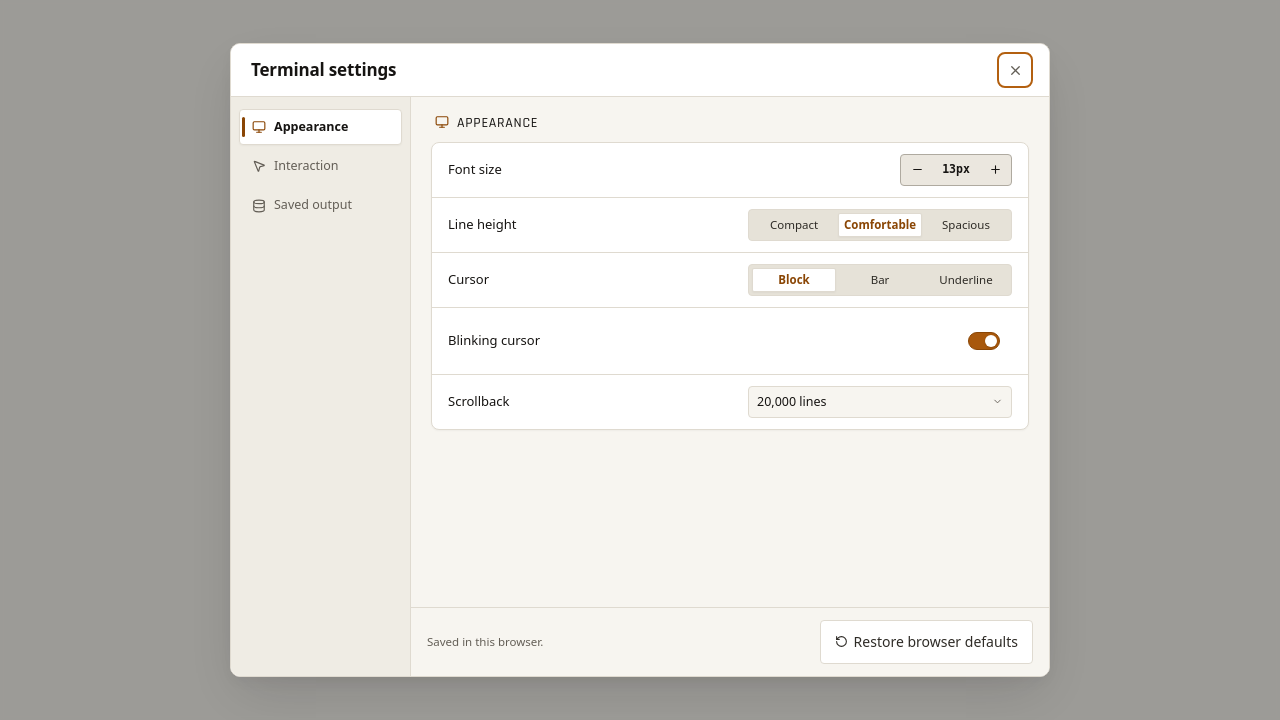
Test: Terminal notification permission › explains denied permission beside the initiating control
The width and height of the screenshot is (1280, 720).
Click the button "Interaction": x=320, y=166 [239,148,402,184]
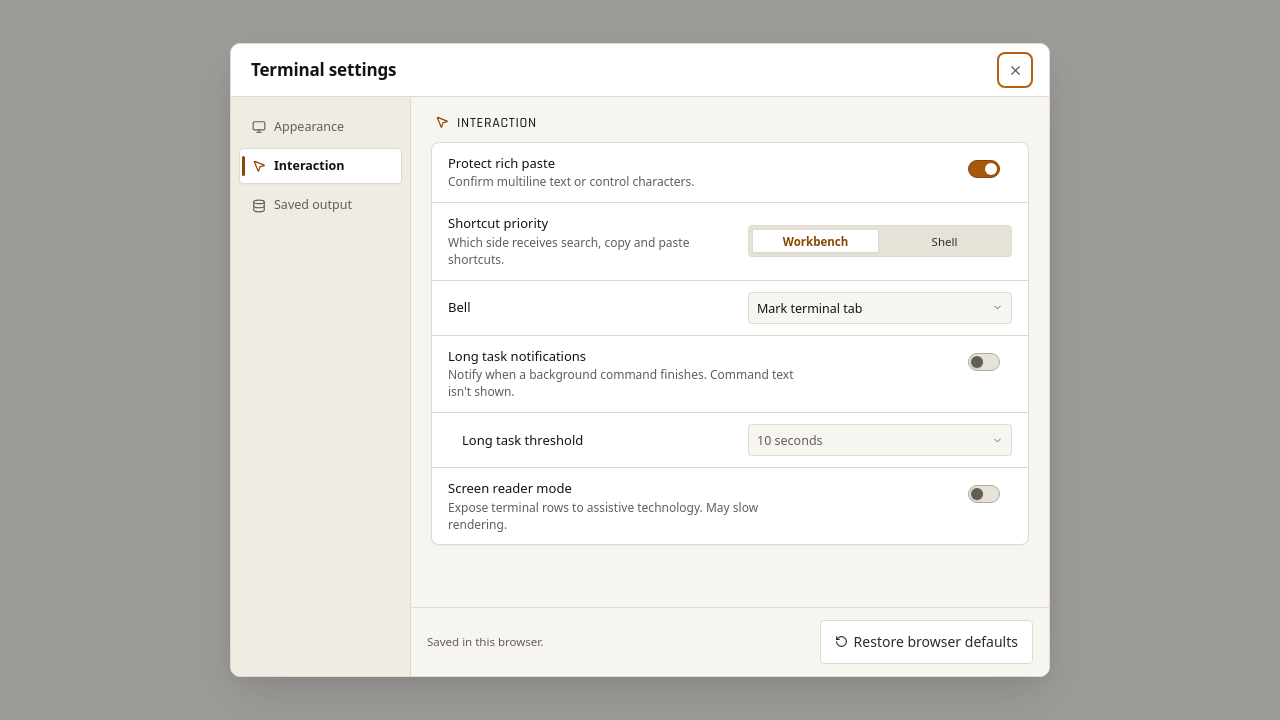
Click the switch named "Long task notifications": x=984, y=362 [968,353,1000,371]
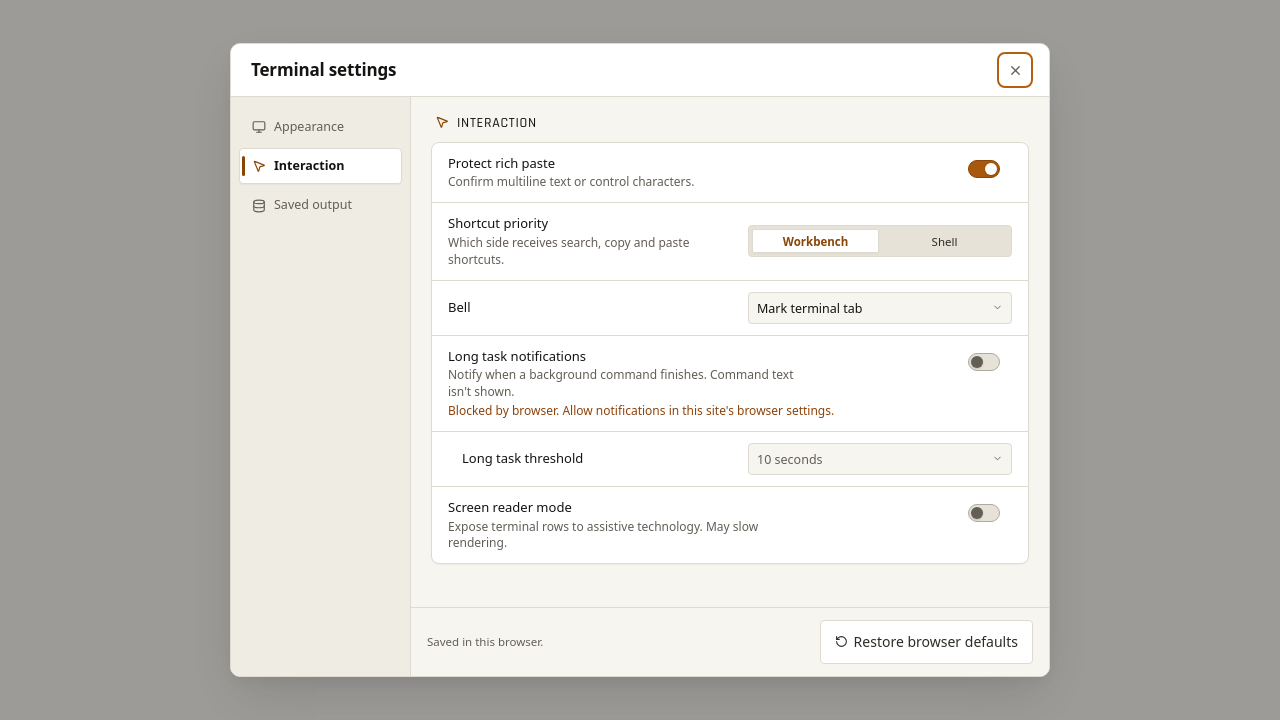
expect the switch named "Long task notifications" is not checked: met, box [968,353,1000,371]
expect the message shows "Blocked by browser": met, box [448,402,834,419]
Click the dropdown named "Terminal bell behavior": x=810, y=308 [748,292,1012,324]
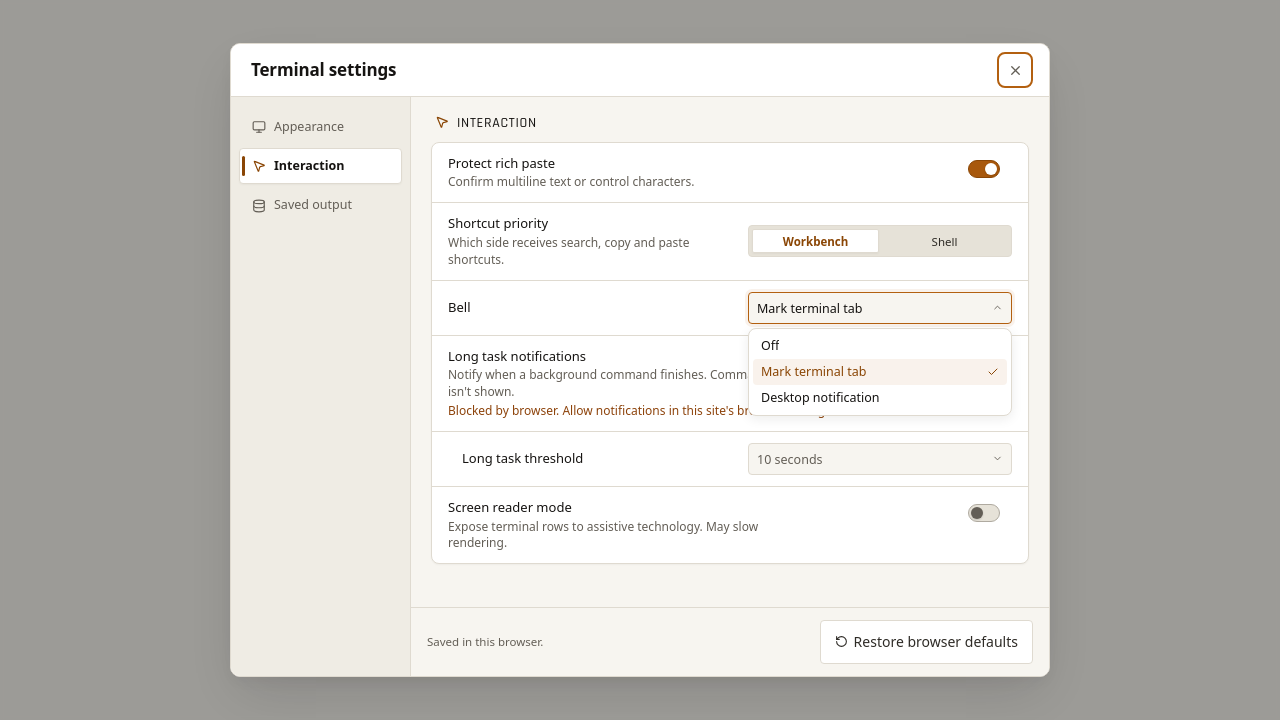
Click the option "Desktop notification": x=820, y=398 [761,389,880,406]
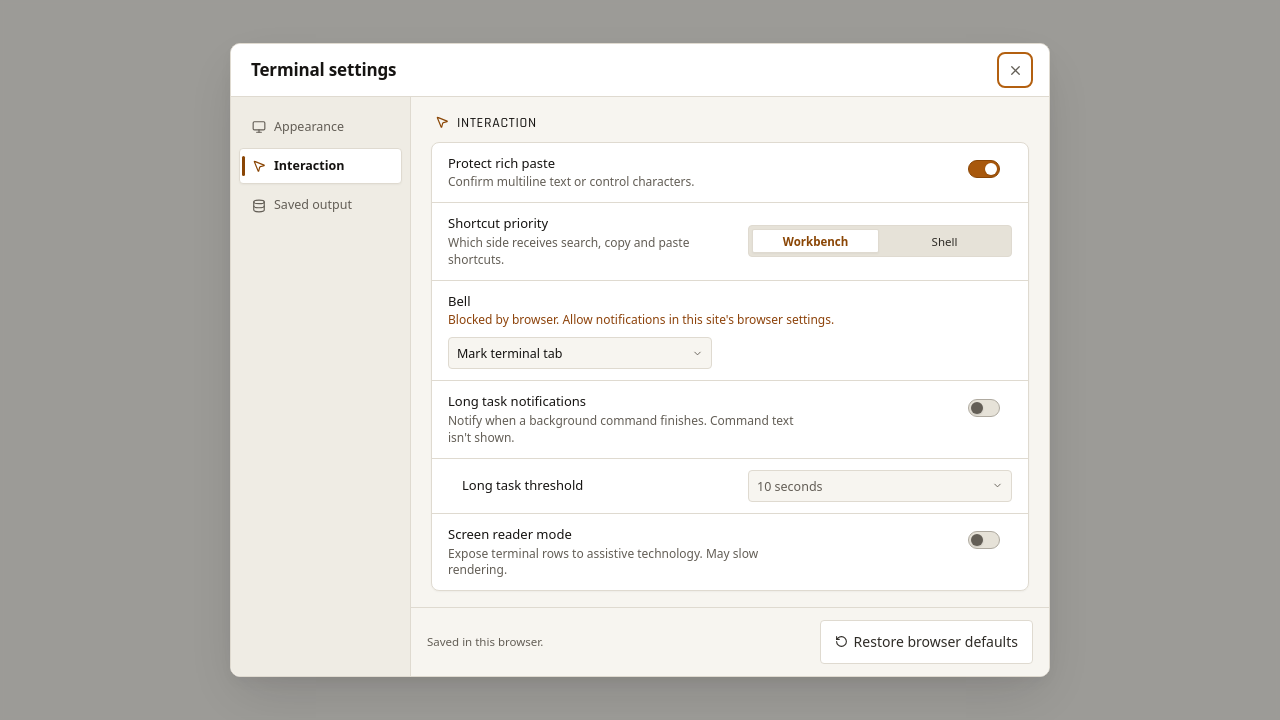
expect the message shows "Blocked by browser": met, box [448,311,834,328]
expect the dropdown named "Terminal bell behavior" reads "Mark terminal tab": met
Click the dropdown named "Terminal bell behavior": x=510, y=354 [448,337,712,369]
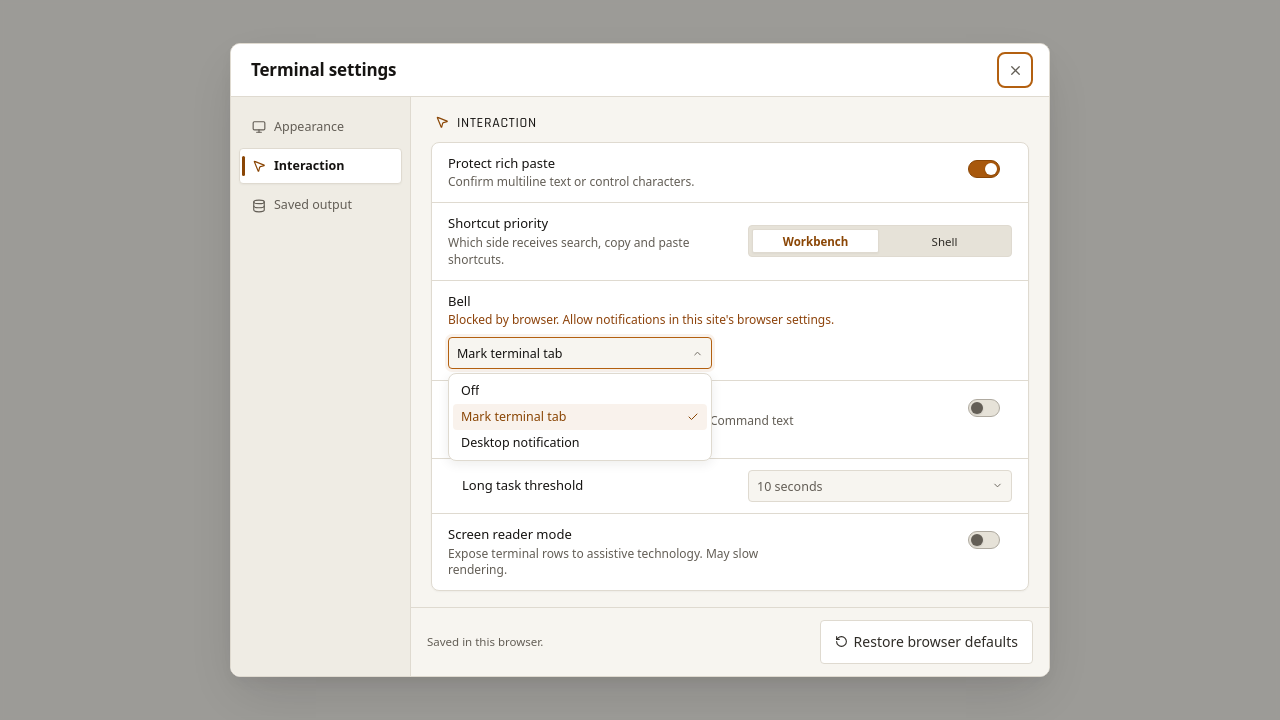
Click the option "Off": x=470, y=390 [461,382,479,399]
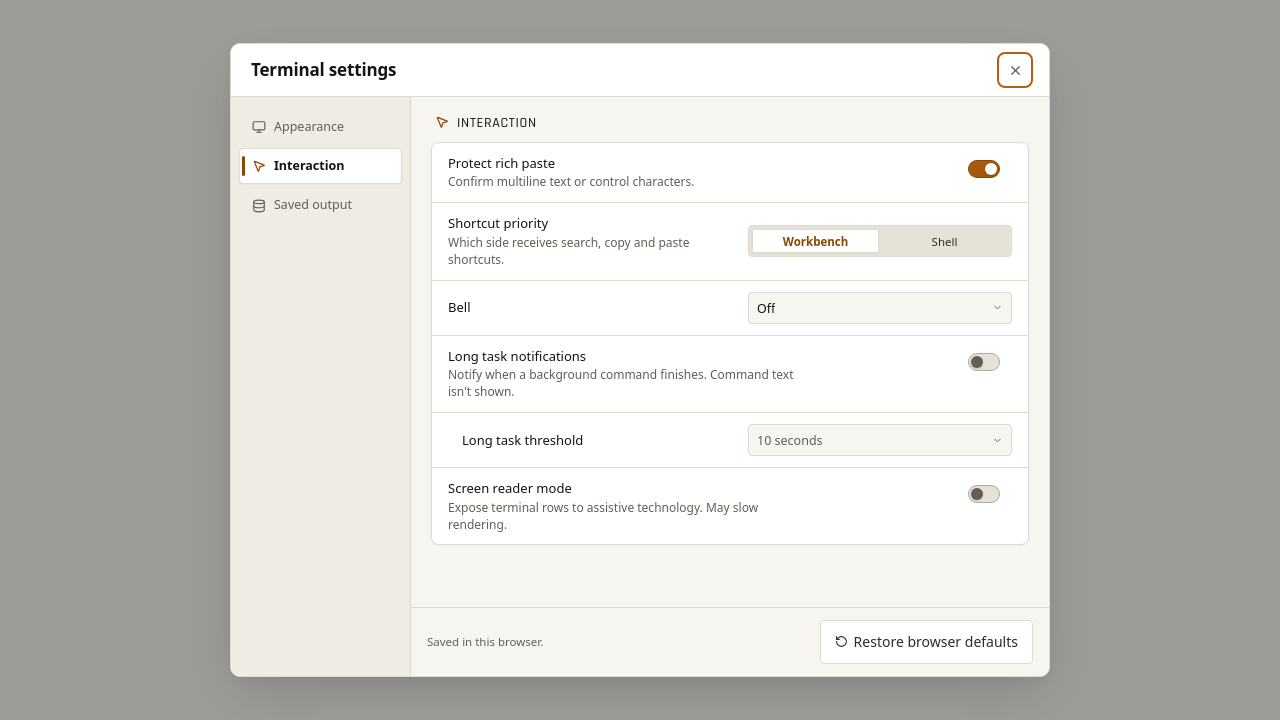
expect the message "Blocked by browser. Allow notifications in this site's browser settings." is gone: met
